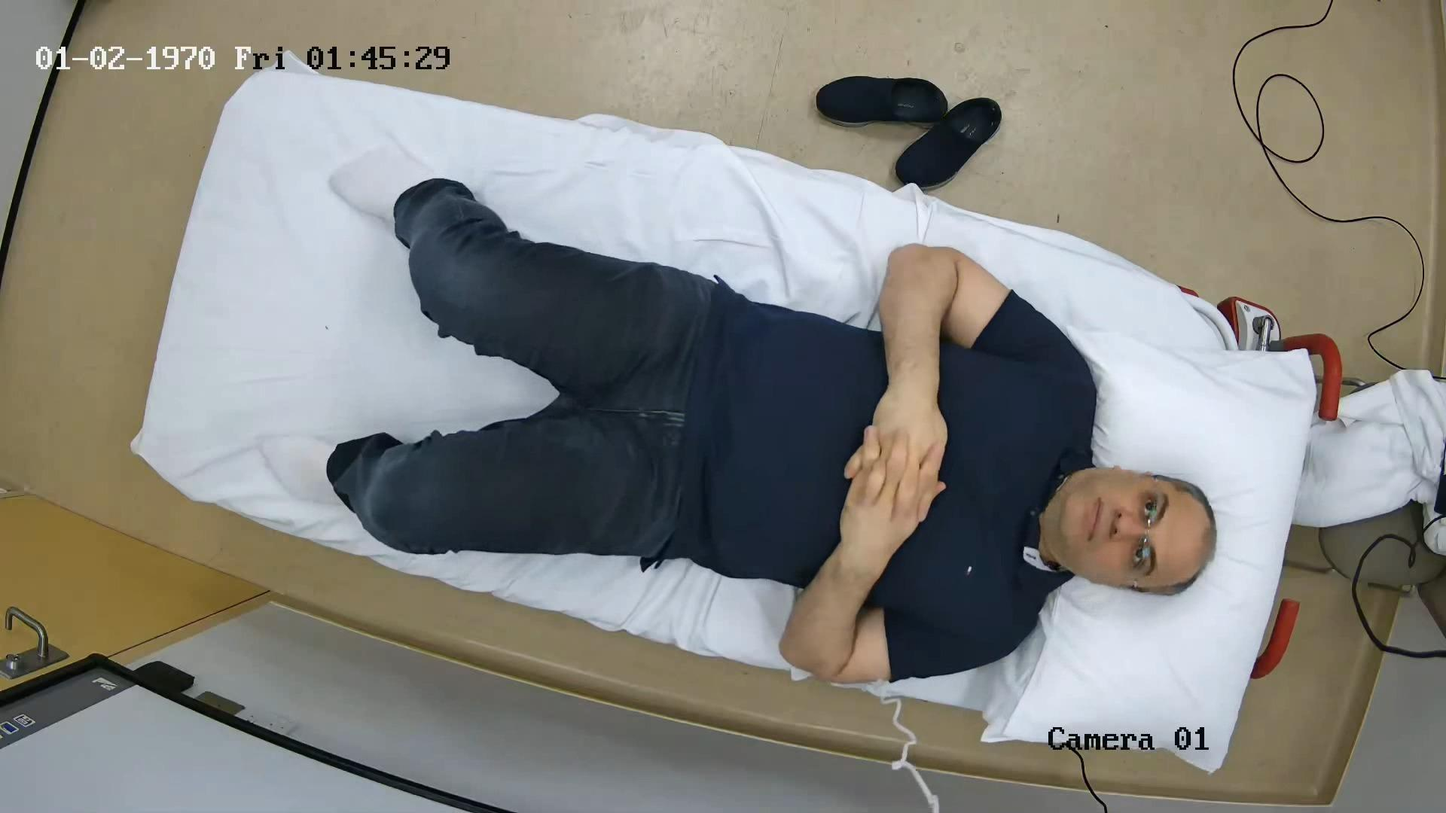bed: (134, 61, 1341, 772)
patient: (328, 178, 1216, 683)
